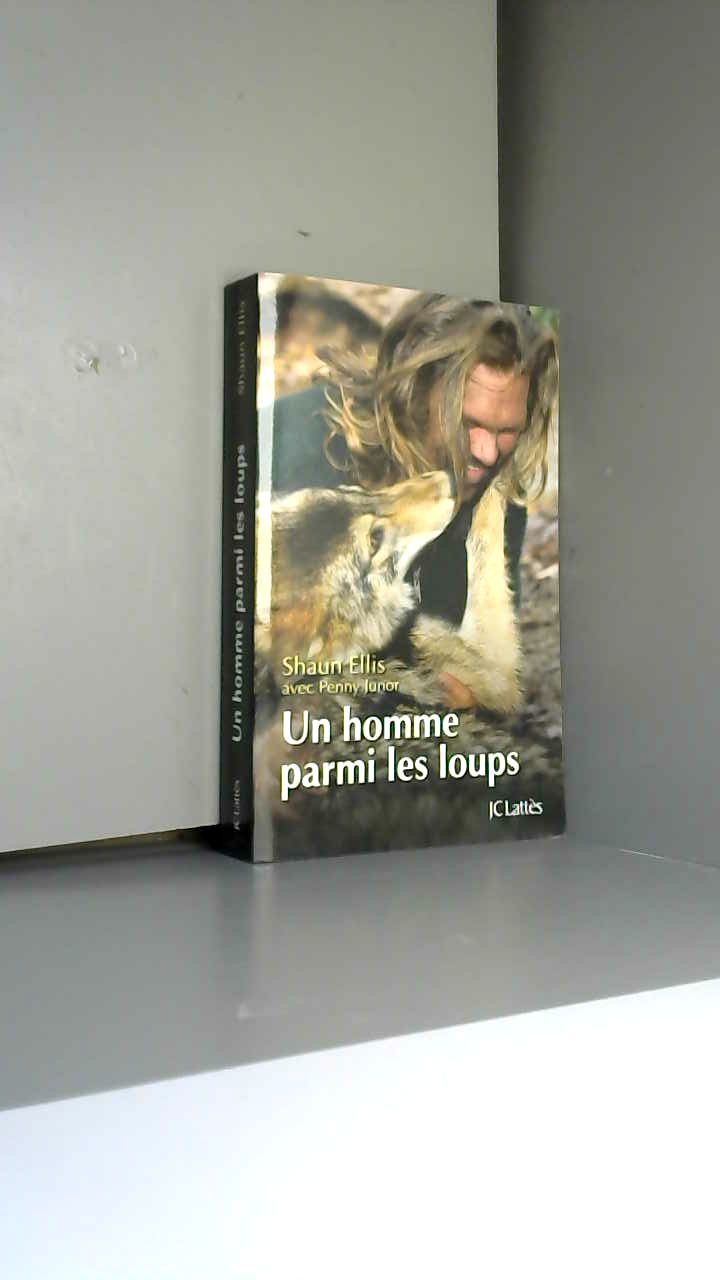book: (183, 234, 622, 910)
